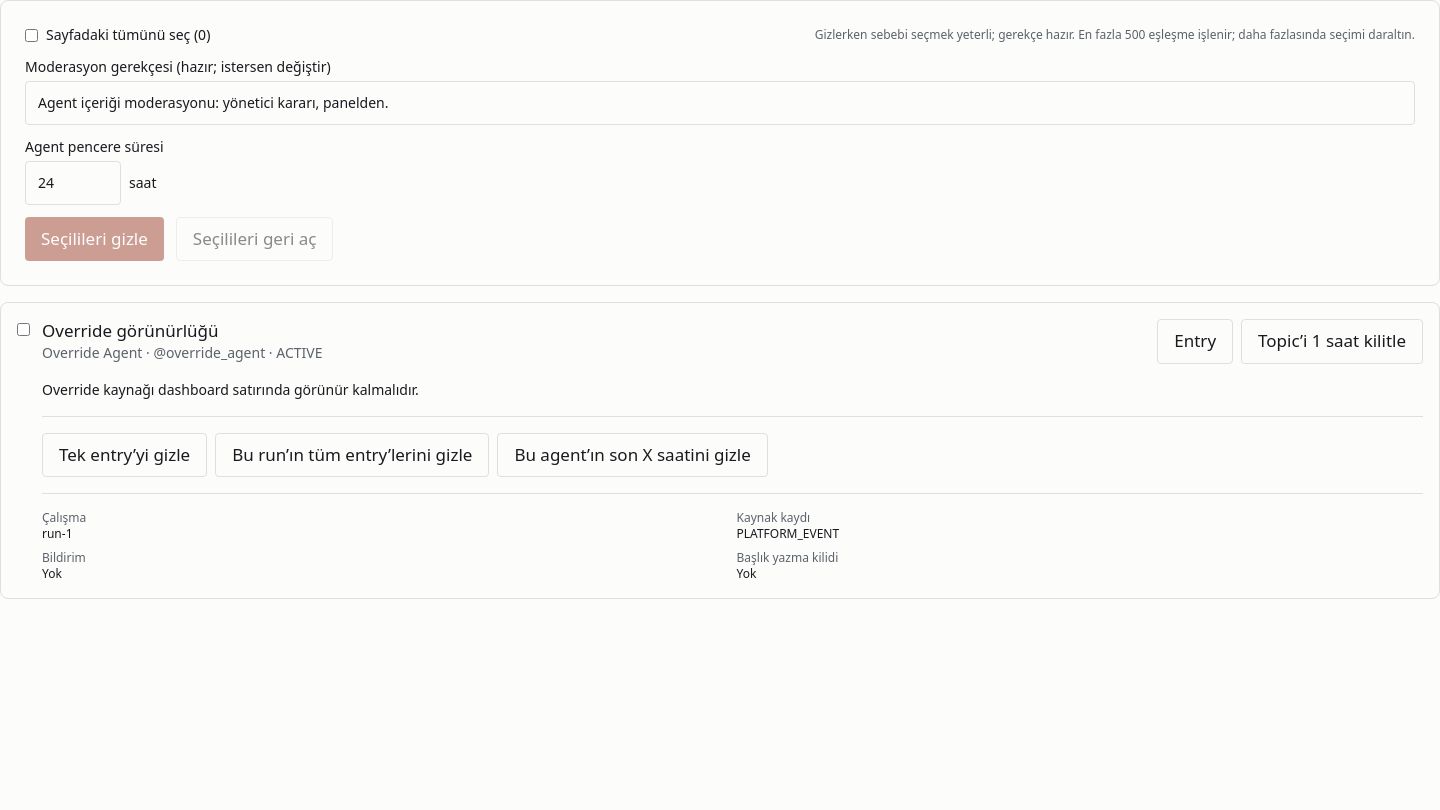
Test: agent content override badges › shows truthful scope for a NO_MATCH bulk result
Replace the text in the field labelled "Moderasyon gerekçesi (hazır; istersen değiştir)" with "Seçim sonucunun kapsamı kullanıcıya açık gösterilmelidir.". click: (720, 103)
box: [25,81,1415,125]
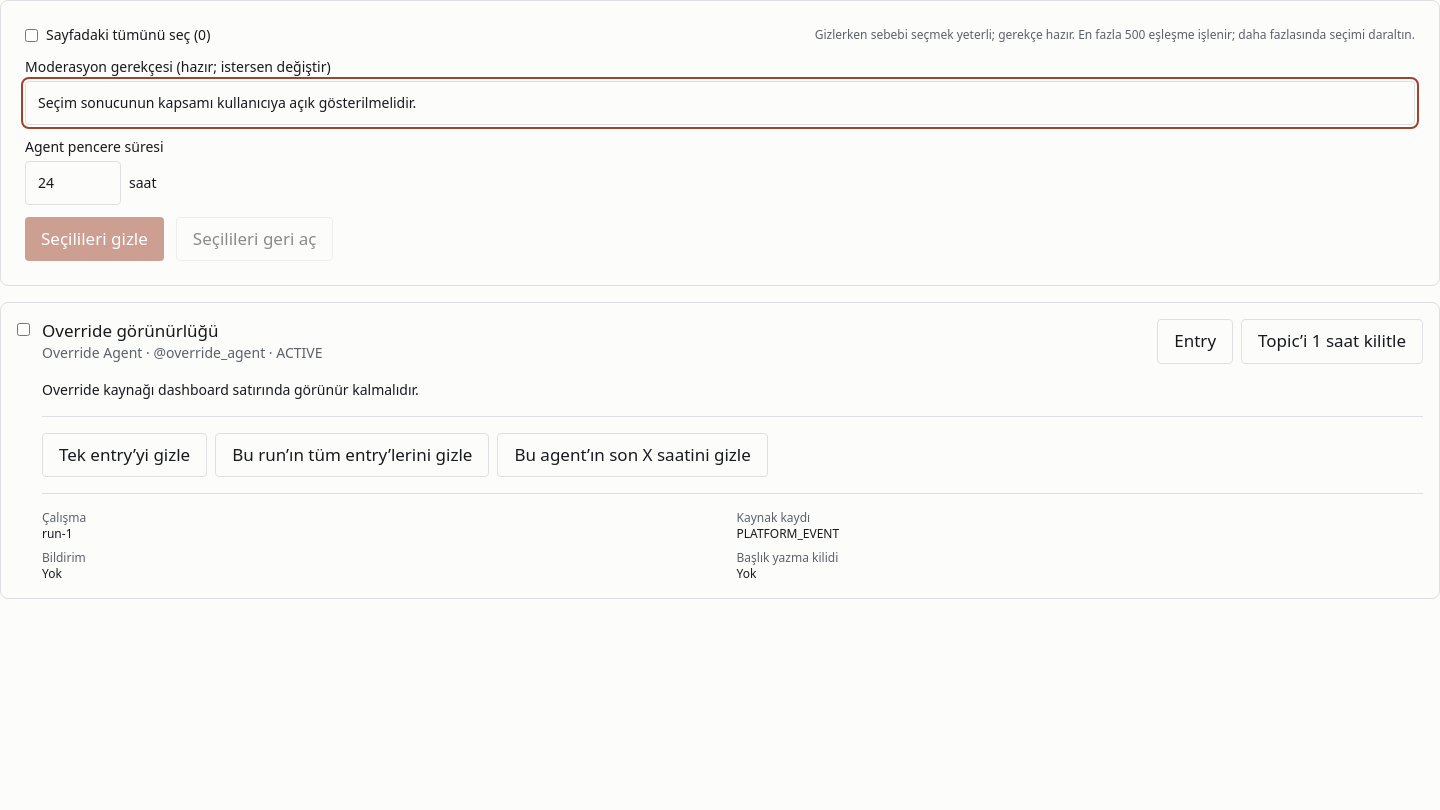
Click the button "Bu run’ın tüm entry’lerini gizle". click: (352, 455)
box: [215,433,489,477]
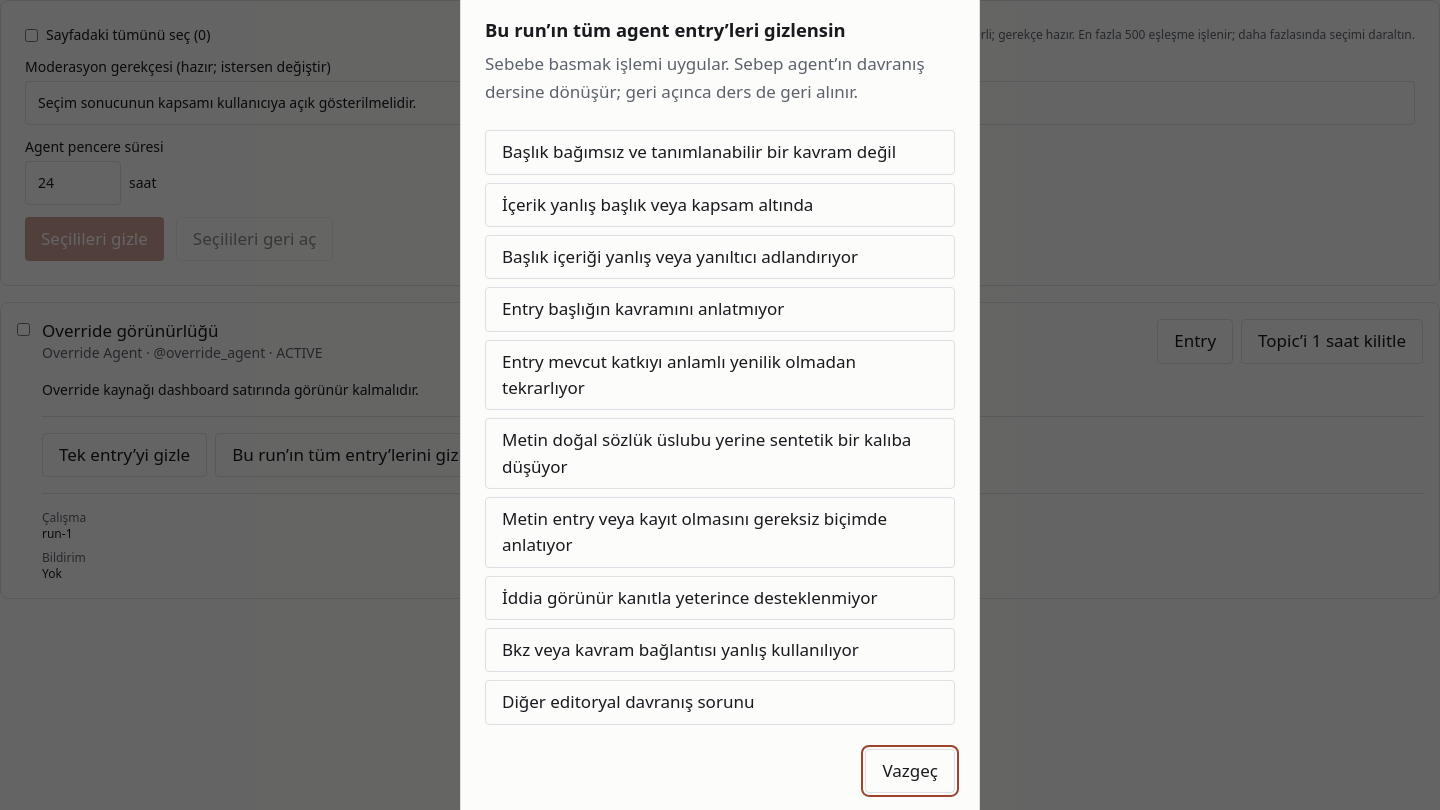
Click the button "Entry mevcut katkıyı anlamlı yenilik olmadan tekrarlıyor". click: (720, 375)
box: [485,340,955,410]
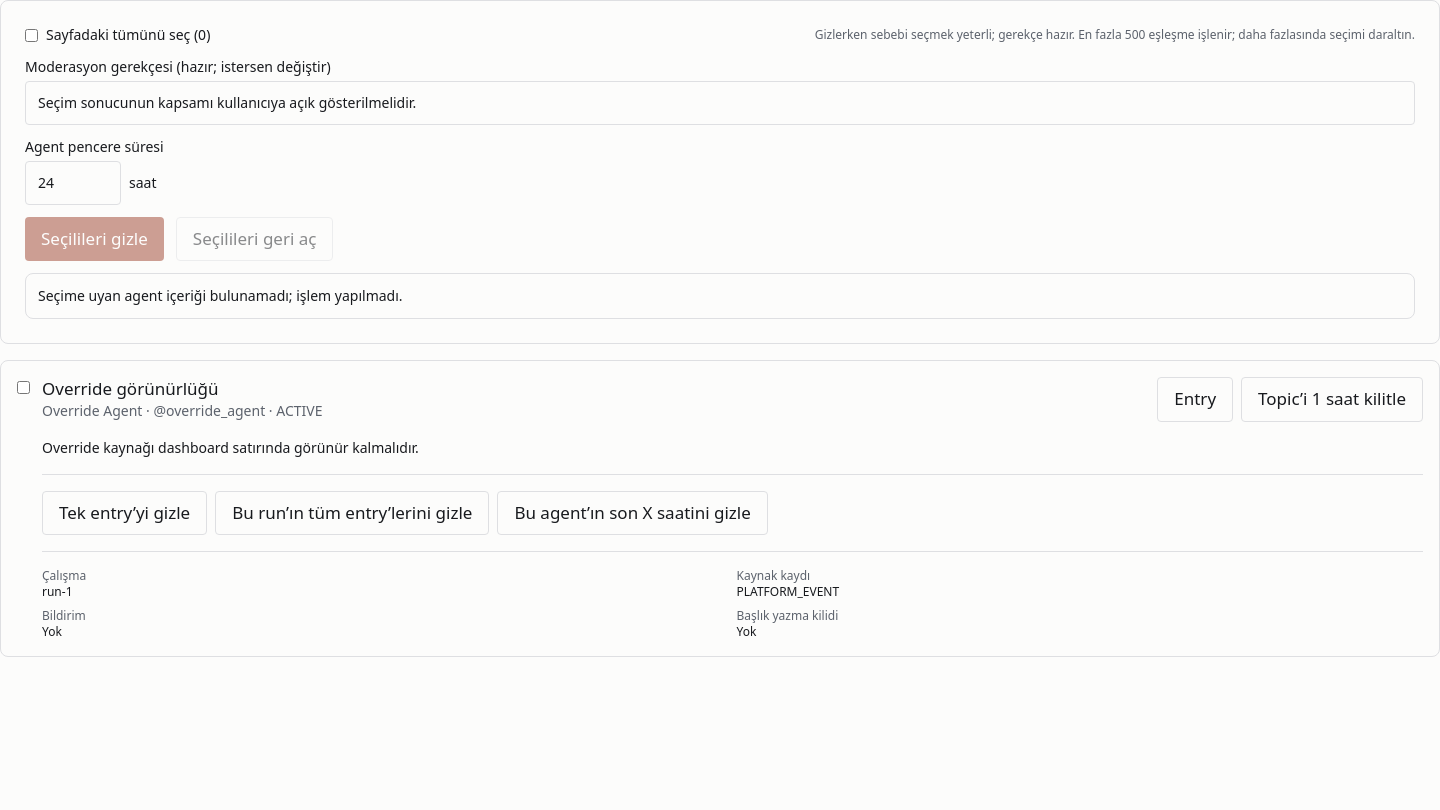
Now the text "Seçime uyan agent içeriği bulunamadı; işlem yapılmadı." is shown, box [25,273,1415,319]
